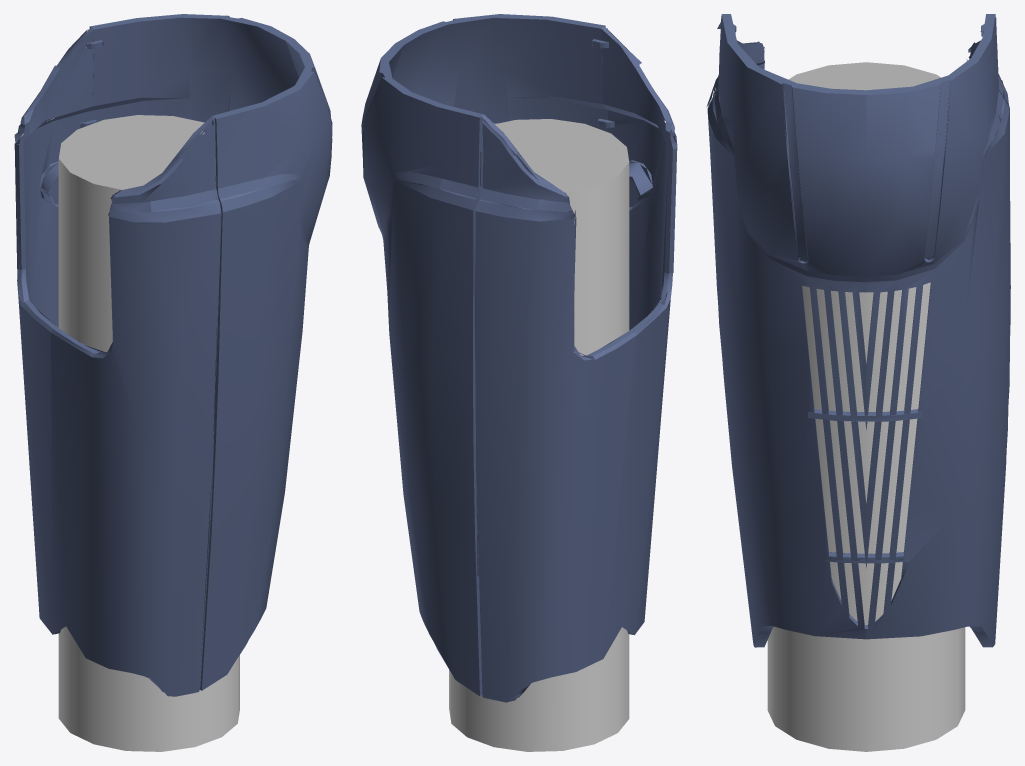
File: icub_r_lower_leg.glb
3 views of the same model, side by side, from view 1: azimuth 30°, elevation 25°; view 2: azimuth 150°, elevation 25°; view 3: azimuth 270°, elevation 25° (orthographic). The views are drawn at different scales.
Parts seen in each view (by area): view 1: r_lowerleg_mesh, r_lowerleg_mesh.001, r_shank_cyl_mesh.001, r_shank_cyl_mesh; view 2: r_lowerleg_mesh, r_lowerleg_mesh.001, r_shank_cyl_mesh.001, r_shank_cyl_mesh; view 3: r_lowerleg_mesh.001, r_shank_cyl_mesh.001, r_shank_cyl_mesh, r_lowerleg_mesh.
Part boxes in pixels (left/top/right/bottom): r_lowerleg_mesh: left=14, top=27, right=221, bottom=696; r_lowerleg_mesh.001: left=85, top=14, right=332, bottom=690; r_shank_cyl_mesh.001: left=58, top=158, right=239, bottom=751; r_shank_cyl_mesh: left=59, top=115, right=204, bottom=189; r_lowerleg_mesh: left=473, top=26, right=677, bottom=702; r_lowerleg_mesh.001: left=361, top=14, right=610, bottom=696; r_shank_cyl_mesh.001: left=449, top=162, right=629, bottom=751; r_shank_cyl_mesh: left=495, top=119, right=629, bottom=193; r_lowerleg_mesh.001: left=707, top=14, right=1010, bottom=647; r_shank_cyl_mesh.001: left=767, top=282, right=965, bottom=751; r_shank_cyl_mesh: left=788, top=62, right=940, bottom=90; r_lowerleg_mesh: left=706, top=18, right=1010, bottom=404.
Bounding box in the file's own units: 0.1035 × 0.2446 × 0.097.
